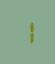one: (19, 20, 34, 43)
